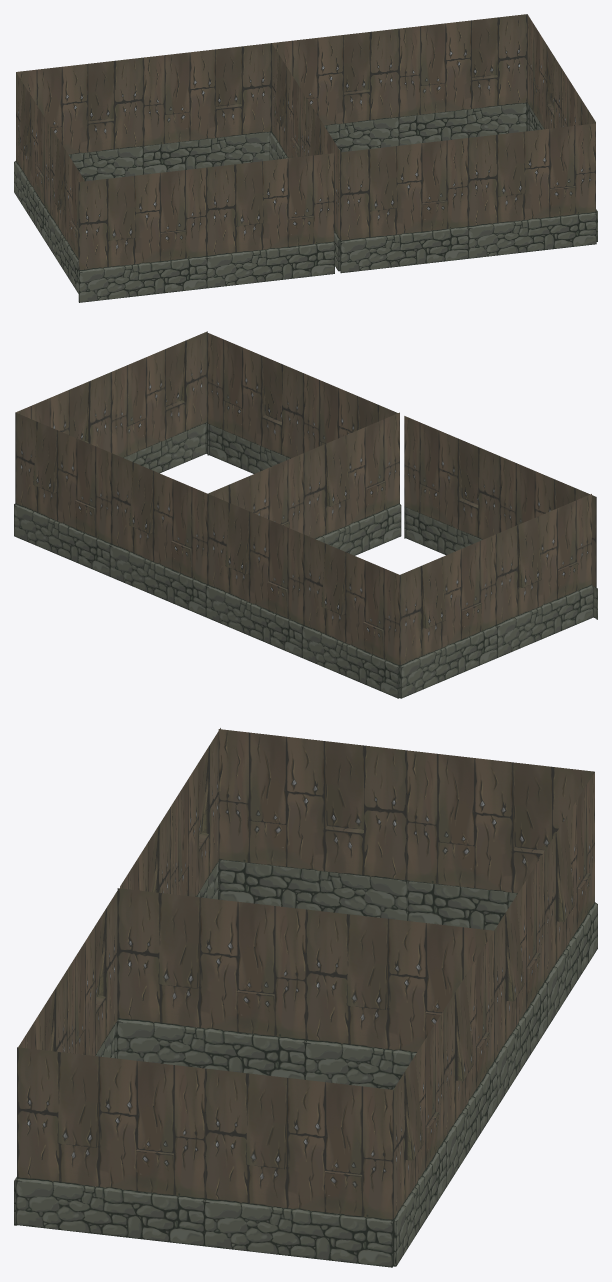
Rendered from polysurface253_tx_nex_mur_0_lev1_lev2.glb.
The picture shows the model from 3 angles, top to bottom: view 1: azimuth 30°, elevation 25°; view 2: azimuth 150°, elevation 25°; view 3: azimuth 270°, elevation 25°; orthographic projection. The views are drawn at different scales.
Visible parts, largest first — view 1: polysurface253_tx_nex_mur_0_lev1_lev2; view 2: polysurface253_tx_nex_mur_0_lev1_lev2; view 3: polysurface253_tx_nex_mur_0_lev1_lev2.
Boxes of the visible parts, x1,y1,x2,y2 form: polysurface253_tx_nex_mur_0_lev1_lev2: (14, 14, 597, 302); polysurface253_tx_nex_mur_0_lev1_lev2: (14, 331, 597, 698); polysurface253_tx_nex_mur_0_lev1_lev2: (14, 728, 597, 1267).
Bounding box in the file's own units: 13.64 × 3.1 × 9.19.
Materials: 1 (1 with a texture image).
